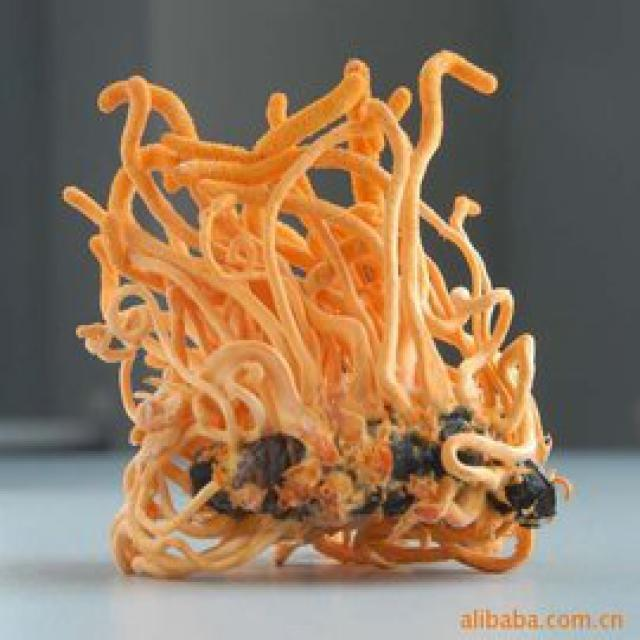Cordyceps militaris: (64, 54, 569, 583)
